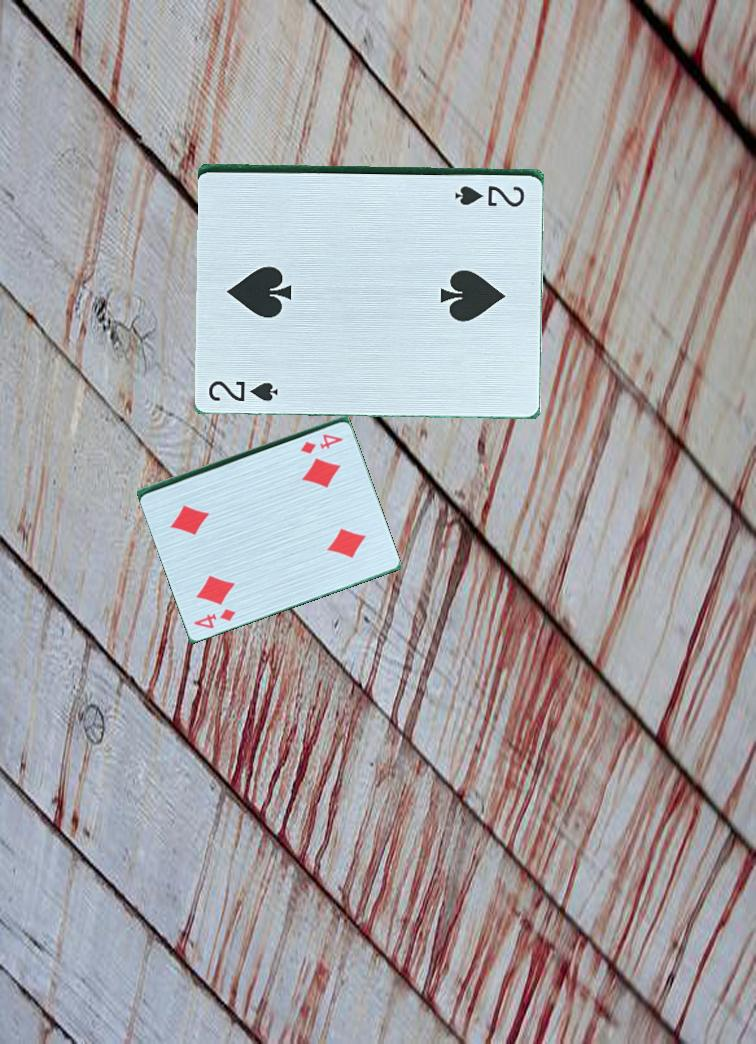2s: (205, 375, 288, 405), (451, 181, 537, 205)
4d: (190, 602, 239, 631), (297, 430, 346, 456)
